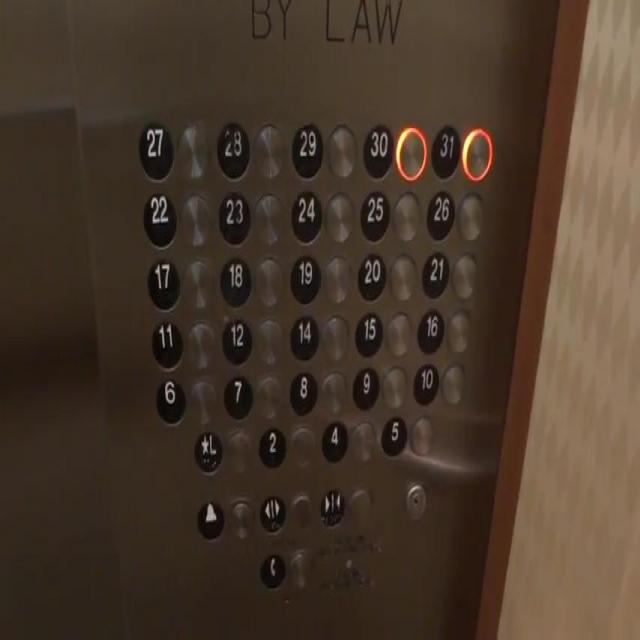10: (411, 356, 440, 407)
11: (148, 314, 185, 370)
12: (220, 312, 252, 363)
14: (290, 311, 318, 361)
15: (353, 305, 382, 356)
16: (414, 303, 444, 353)
17: (146, 253, 180, 311)
18: (217, 250, 251, 306)
19: (290, 251, 318, 301)
2: (258, 423, 285, 469)
20: (356, 248, 384, 299)
21: (420, 248, 449, 299)
22: (141, 185, 177, 247)
23: (216, 185, 252, 247)
24: (288, 184, 323, 245)
25: (358, 184, 390, 243)
26: (423, 185, 455, 240)
27: (136, 116, 174, 180)
28: (214, 117, 250, 179)
29: (288, 117, 324, 179)
30: (362, 117, 394, 179)
31: (428, 121, 462, 180)
4: (320, 415, 347, 461)
5: (380, 411, 407, 457)
6: (153, 371, 186, 424)
7: (221, 368, 253, 423)
8: (288, 365, 317, 416)
9: (350, 359, 379, 409)
alarm: (196, 492, 224, 541)
call: (258, 545, 284, 588)
close: (318, 480, 344, 529)
empty: (174, 120, 207, 179), (459, 123, 492, 181), (326, 117, 358, 176), (178, 191, 210, 249), (250, 119, 282, 177), (395, 119, 427, 177), (251, 186, 282, 242), (448, 250, 478, 302), (186, 318, 215, 371), (252, 253, 281, 306), (182, 256, 211, 308), (320, 252, 349, 304), (387, 250, 416, 302), (456, 190, 485, 242), (390, 190, 419, 242), (324, 190, 353, 242), (288, 422, 316, 470), (349, 416, 376, 464), (224, 426, 251, 474), (189, 378, 216, 426), (253, 372, 280, 420), (319, 366, 346, 414), (379, 362, 406, 410), (439, 358, 466, 406), (444, 308, 471, 356), (384, 308, 411, 356), (255, 314, 282, 362), (322, 312, 348, 360), (227, 496, 253, 539), (344, 485, 370, 528), (408, 413, 434, 456), (286, 547, 312, 589), (286, 491, 312, 533)
keyhole: (403, 479, 427, 521)
open: (257, 487, 284, 536)
sL: (193, 424, 220, 473)
